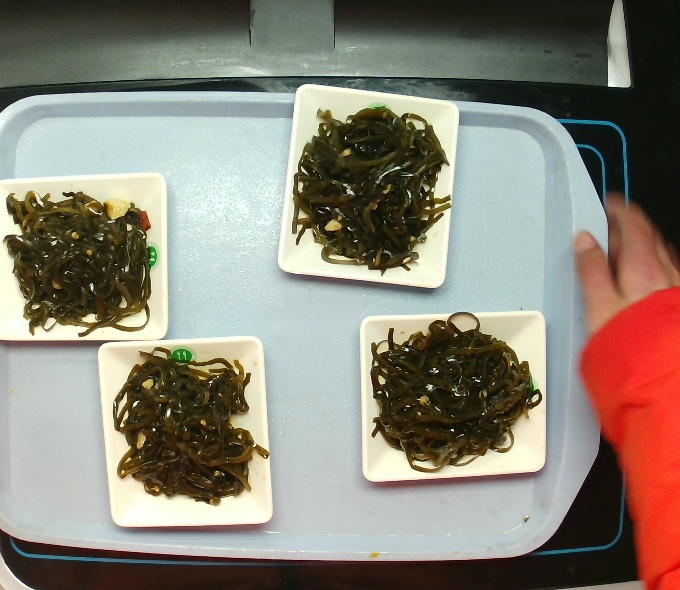wcq-LiangBanHaiDai: (294, 91, 445, 281), (369, 318, 532, 469), (116, 348, 266, 510), (7, 187, 160, 331)
